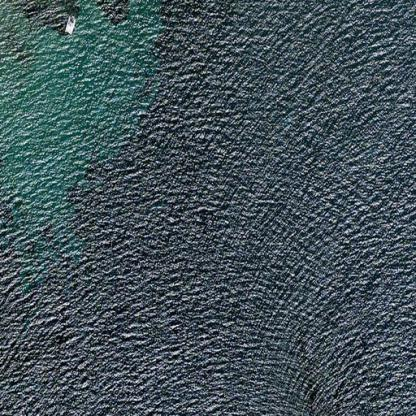ship: (62, 12, 75, 37)
